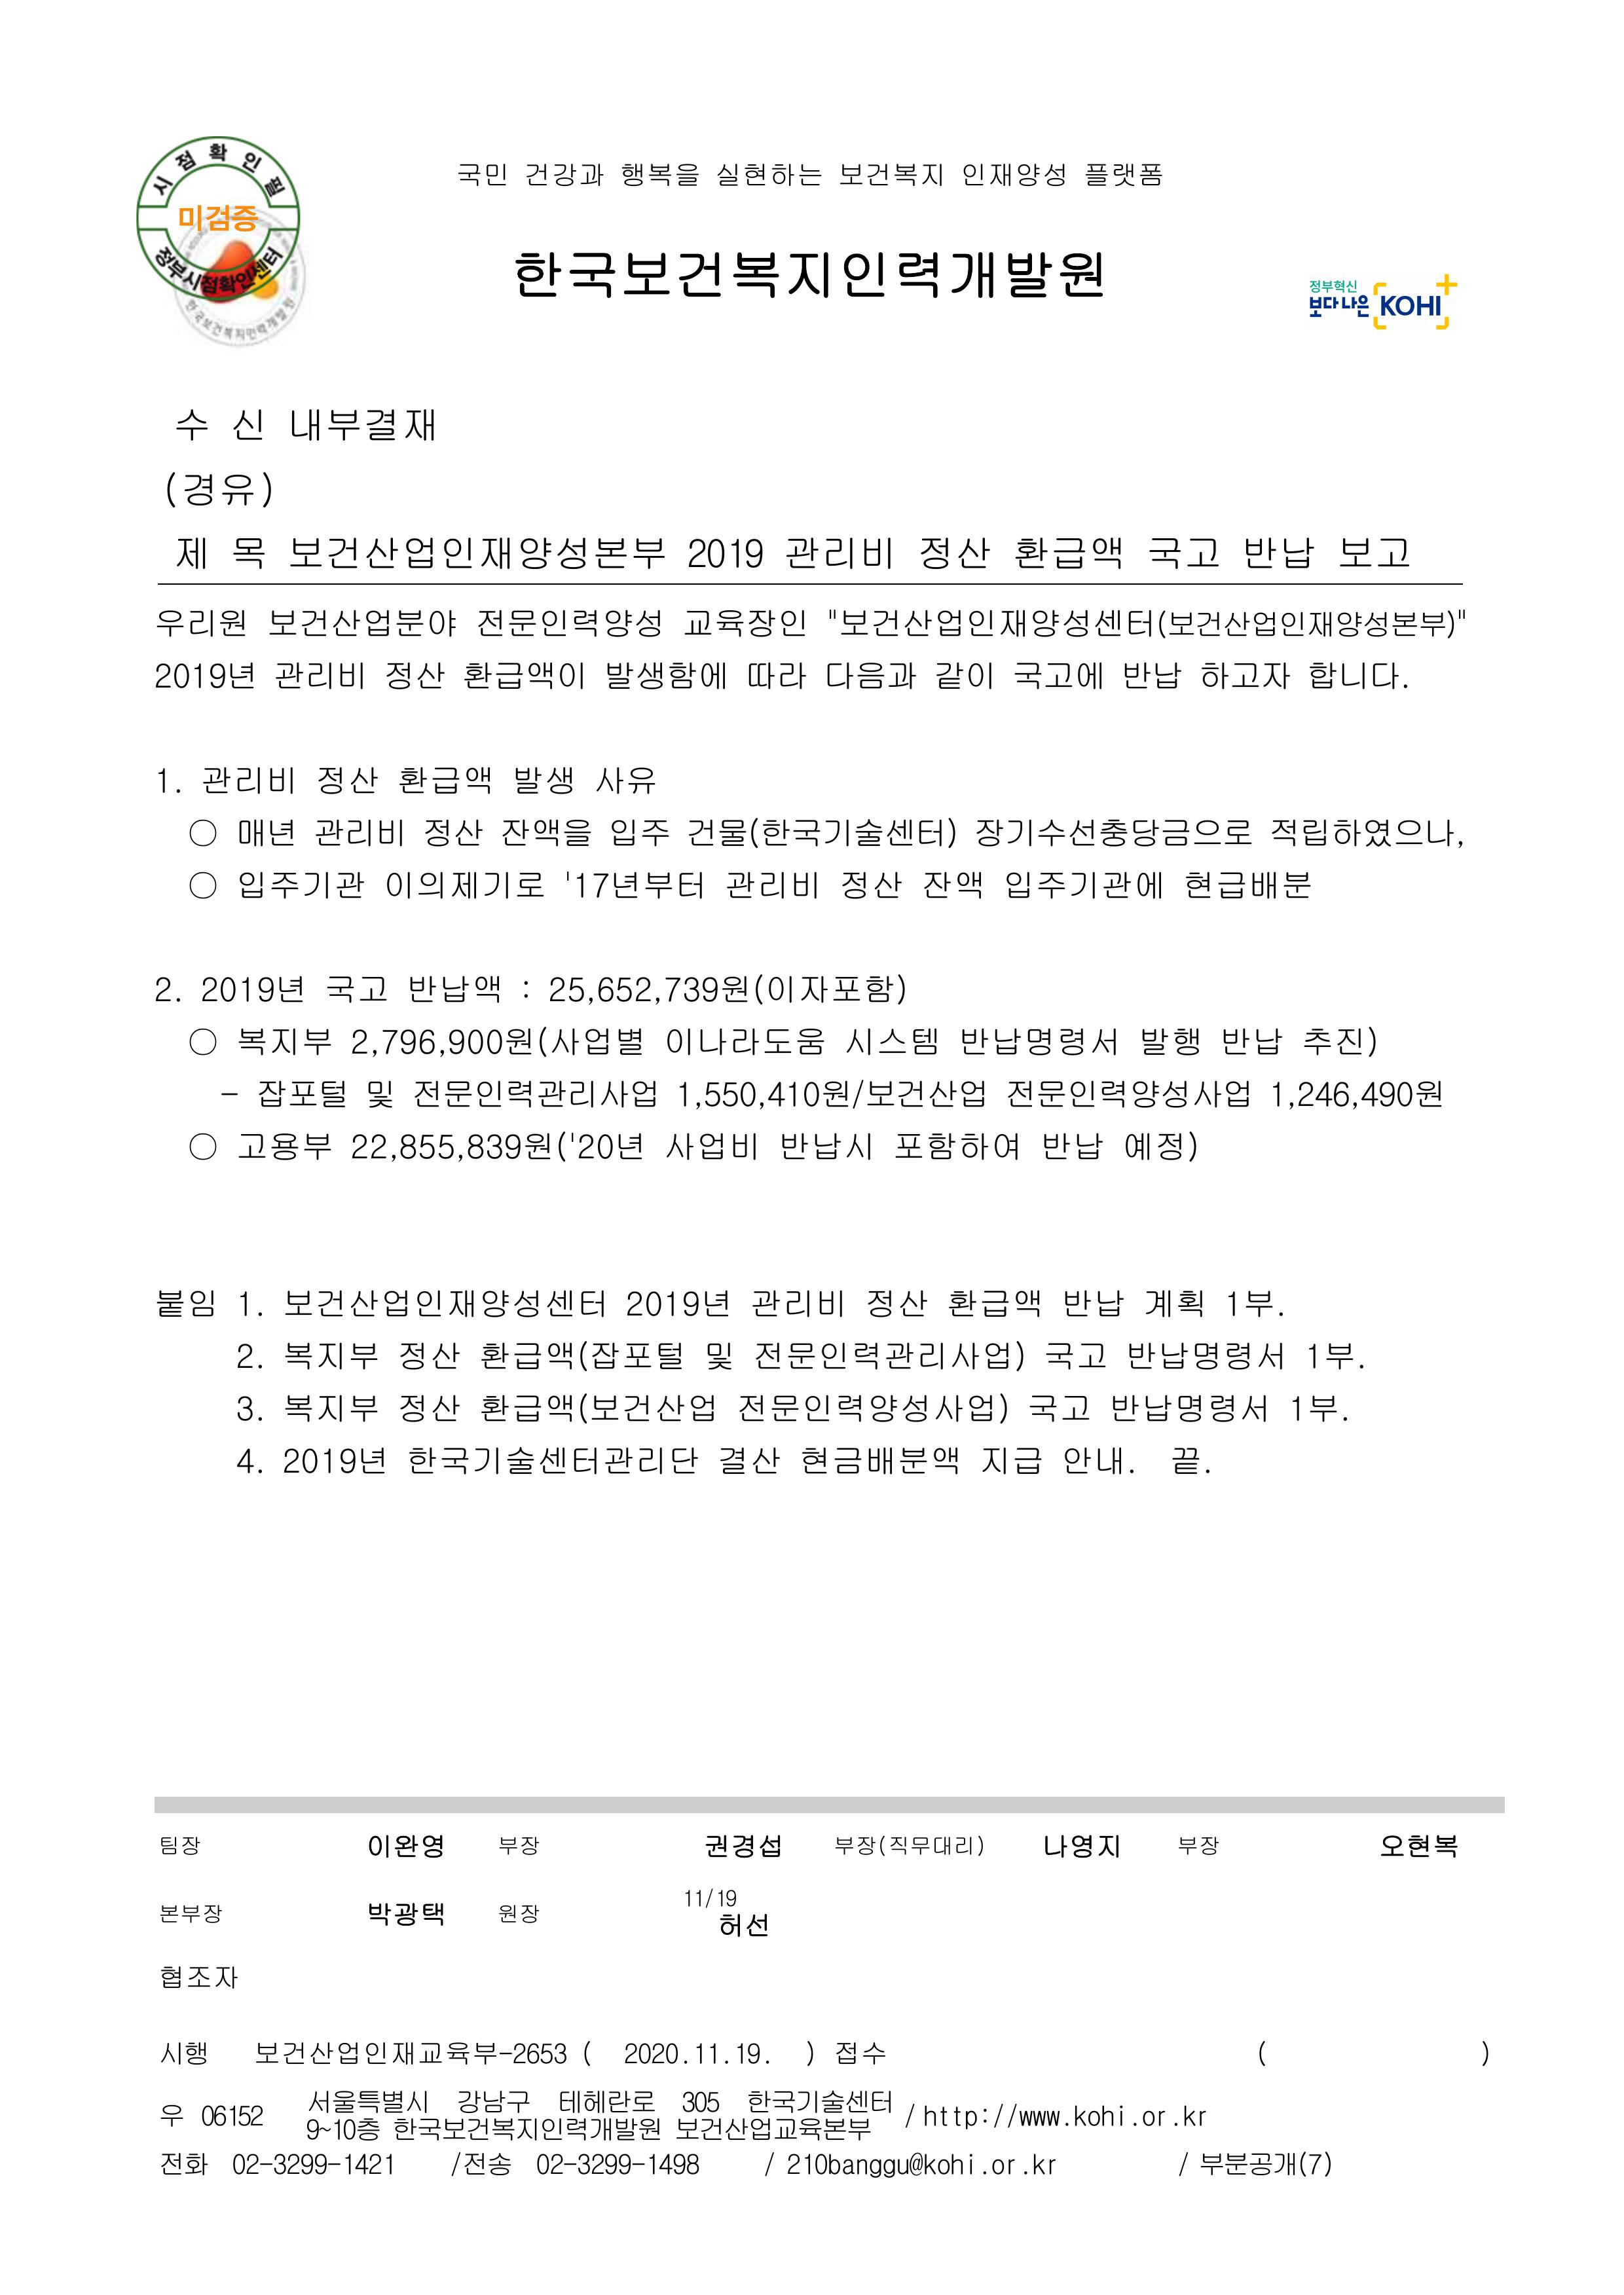t: (508, 244, 1104, 308), (821, 603, 1466, 641), (286, 531, 671, 576), (673, 2088, 896, 2147), (283, 1283, 606, 1323), (404, 1441, 700, 1480), (972, 814, 1251, 854), (255, 2033, 569, 2068), (673, 1075, 986, 1111), (348, 1021, 645, 1058), (735, 1390, 1011, 1427), (749, 1337, 1025, 1372), (685, 814, 958, 849), (476, 1388, 717, 1427), (659, 972, 907, 1007), (411, 1075, 659, 1111), (1004, 1075, 1251, 1111), (394, 2116, 659, 2144), (476, 1337, 685, 1372), (780, 2147, 979, 2184), (348, 1130, 555, 1165), (286, 404, 441, 448), (265, 606, 459, 641), (1265, 814, 1459, 849), (473, 606, 663, 641), (958, 1021, 1118, 1061), (1265, 1075, 1445, 1111), (800, 1441, 961, 1480), (1107, 1390, 1272, 1427), (663, 1021, 824, 1058), (383, 868, 548, 903), (1000, 868, 1165, 903), (1123, 1337, 1287, 1372), (162, 469, 279, 517), (1011, 531, 1130, 576), (559, 868, 703, 903), (603, 655, 728, 696), (893, 1126, 1021, 1165), (237, 868, 366, 903), (780, 534, 896, 573), (680, 606, 807, 641), (462, 655, 589, 691), (1183, 868, 1308, 903), (304, 2082, 434, 2116), (1197, 2147, 1334, 2179), (545, 972, 666, 1007), (835, 1833, 986, 1861), (279, 1441, 387, 1478), (394, 761, 494, 800), (151, 655, 258, 691), (197, 972, 304, 1007), (714, 156, 824, 190), (835, 156, 946, 190), (944, 1283, 1044, 1320), (1241, 531, 1320, 576), (842, 1021, 939, 1058), (749, 1283, 845, 1320), (1306, 655, 1406, 691), (197, 761, 297, 796), (620, 1288, 731, 1320), (663, 1130, 761, 1165), (1338, 531, 1413, 576), (272, 655, 369, 691), (821, 655, 917, 691), (311, 814, 408, 849), (724, 868, 821, 903), (404, 972, 501, 1007), (779, 1130, 875, 1165), (283, 1337, 380, 1372), (237, 1021, 329, 1058), (279, 1390, 380, 1423), (1011, 655, 1104, 691), (1197, 655, 1290, 691), (255, 1075, 348, 1111), (499, 814, 591, 849), (237, 1130, 329, 1165), (176, 200, 258, 237), (1297, 1021, 1380, 1058), (1144, 531, 1220, 569), (914, 534, 990, 573), (1118, 1130, 1200, 1165), (155, 606, 246, 638), (520, 156, 606, 190), (982, 156, 1069, 190), (685, 534, 766, 569), (555, 2088, 656, 2116), (617, 156, 700, 190), (1079, 156, 1162, 190), (366, 1896, 448, 1929), (1216, 1021, 1283, 1061), (366, 1829, 448, 1861), (1040, 1829, 1123, 1861), (156, 1961, 239, 1993), (861, 1288, 932, 1325), (573, 1130, 645, 1165), (311, 763, 380, 800), (508, 763, 576, 800), (394, 1390, 462, 1427), (452, 2088, 531, 2119), (301, 2112, 380, 2144), (714, 1441, 780, 1478), (703, 1829, 780, 1861), (418, 814, 487, 849), (835, 868, 903, 903), (383, 659, 448, 696), (979, 1441, 1044, 1478), (1137, 1021, 1200, 1058), (1062, 1444, 1130, 1478), (742, 655, 807, 691), (232, 814, 297, 849), (606, 814, 671, 849), (394, 1337, 459, 1372), (1040, 1130, 1104, 1165), (1062, 1288, 1125, 1323), (1044, 1337, 1107, 1372), (596, 763, 656, 800), (903, 2105, 993, 2130), (1025, 1390, 1090, 1423), (269, 2147, 337, 2179), (445, 2147, 513, 2179), (1118, 655, 1179, 691), (1301, 1337, 1362, 1372), (932, 659, 997, 691), (921, 868, 986, 900), (322, 972, 387, 1003), (1141, 1288, 1206, 1320), (620, 2037, 685, 2068), (1283, 1390, 1345, 1423), (1373, 290, 1445, 318), (155, 1288, 218, 1320), (573, 2147, 634, 2179), (197, 2102, 265, 2130), (691, 2044, 766, 2068), (1308, 293, 1373, 322), (1223, 1288, 1280, 1320), (156, 2037, 211, 2068), (831, 2037, 886, 2068), (156, 2147, 211, 2179), (162, 1905, 227, 1929), (176, 404, 214, 445), (645, 2151, 703, 2177), (1378, 1833, 1431, 1861), (341, 2151, 394, 2179), (1072, 2105, 1130, 2130), (227, 404, 262, 445), (172, 534, 211, 569), (680, 1889, 738, 1912), (228, 534, 265, 569), (678, 2088, 724, 2116), (1169, 1444, 1206, 1478), (1007, 2109, 1065, 2130), (459, 165, 508, 190), (703, 1337, 735, 1372), (499, 1905, 541, 1929), (204, 272, 251, 293), (1176, 1836, 1223, 1857), (232, 1390, 262, 1423), (228, 2147, 262, 2177), (366, 1075, 394, 1111), (156, 766, 186, 796), (162, 1836, 204, 1857), (499, 1836, 541, 1857), (742, 1912, 772, 1940), (155, 975, 179, 1007), (237, 1341, 262, 1372), (237, 1290, 262, 1320), (237, 1448, 262, 1478), (1028, 2154, 1058, 2179), (990, 2154, 1018, 2179), (538, 2154, 566, 2177), (961, 165, 986, 190), (1434, 1833, 1459, 1857), (555, 1133, 576, 1162), (1141, 2109, 1169, 2130), (1179, 2109, 1207, 2130), (162, 2105, 186, 2126), (1308, 279, 1355, 290), (721, 1915, 742, 1937)
